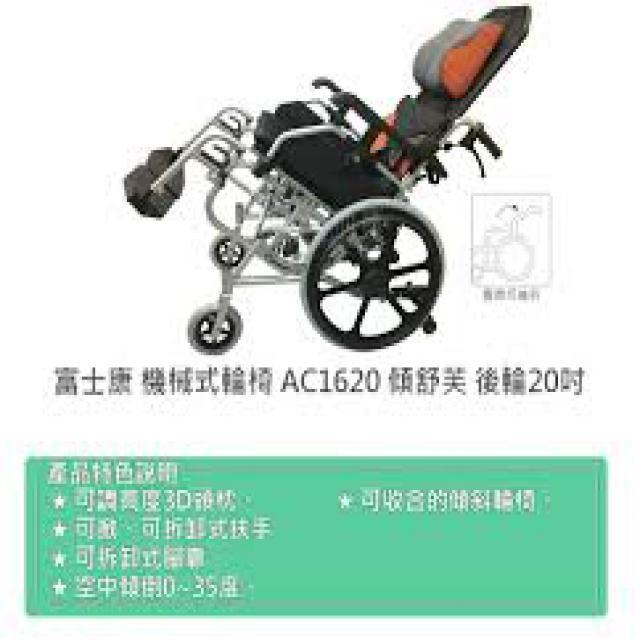wheelchair: (111, 2, 540, 362)
